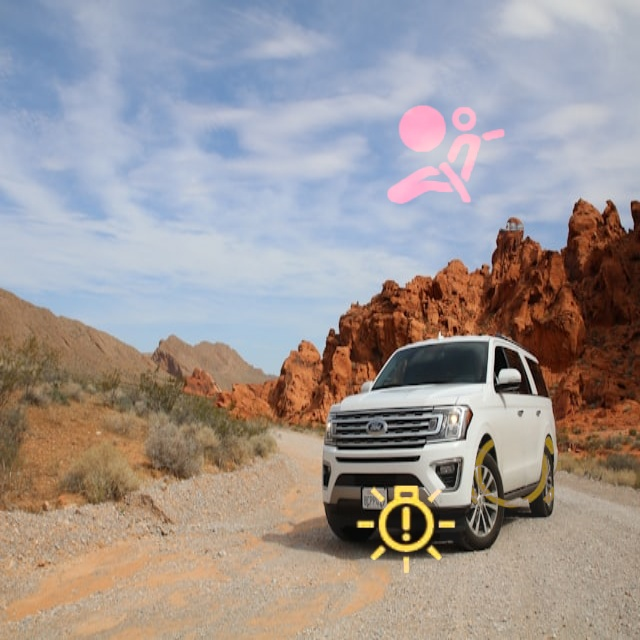symbol: (364, 72, 531, 239), (327, 450, 489, 612), (440, 400, 583, 543)
